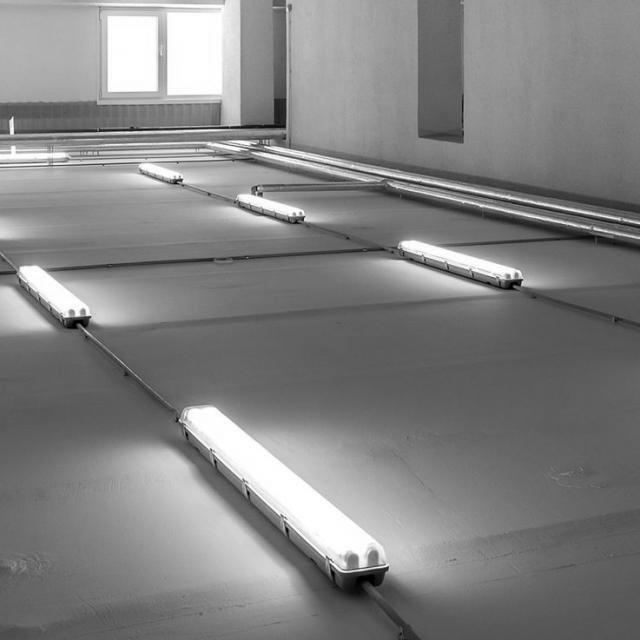light: (176, 403, 390, 592), (396, 238, 524, 289), (16, 261, 92, 328), (235, 187, 311, 226), (137, 157, 190, 186)
